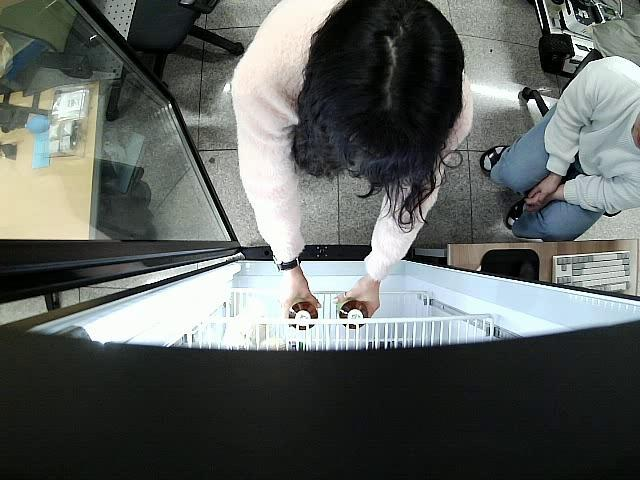19_17cha: (288, 296, 320, 332), (336, 302, 372, 331)
